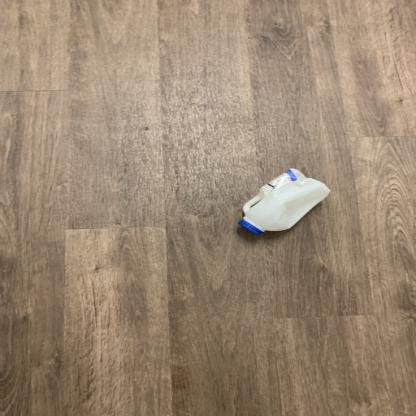trash: (236, 165, 333, 238)
